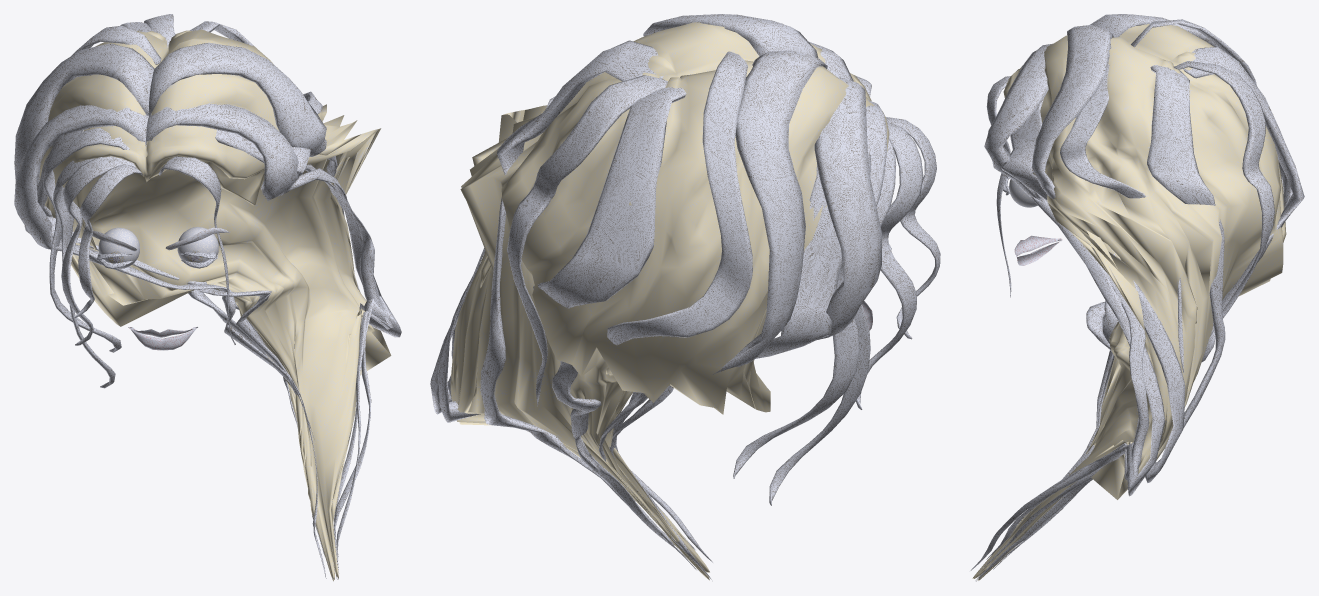
The model's file is eyes_hair.dae.
3 renders of one model, left to right at view 1: azimuth 30°, elevation 25°; view 2: azimuth 150°, elevation 25°; view 3: azimuth 270°, elevation 25°, orthographic. The views are drawn at different scales.
Parts seen in each view (by area): view 1: instance_0, instance_0_004, instance_0_011, instance_0_003, instance_0_005, instance_0_002, instance_0_001, instance_0_016, instance_0_013, instance_0_012, instance_0_015, instance_0_014 (+6 smaller); view 2: instance_0, instance_0_006, instance_0_005, instance_0_010, instance_0_003, instance_0_007, instance_0_008, instance_0_001, instance_0_016, instance_0_011, instance_0_013, instance_0_015 (+3 smaller); view 3: instance_0, instance_0_011, instance_0_004, instance_0_007, instance_0_002, instance_0_008, instance_0_006, instance_0_009, instance_0_010, instance_0_005, instance_0_001, instance_0_014 (+2 smaller).
Part boxes in pixels (box(x1,y1,x2,y2)): instance_0: box(39, 29, 391, 581); instance_0_004: box(146, 103, 401, 549); instance_0_011: box(148, 43, 359, 559); instance_0_003: box(14, 105, 324, 555); instance_0_005: box(14, 43, 285, 369); instance_0_002: box(215, 129, 393, 571); instance_0_001: box(24, 130, 326, 578); instance_0_016: box(43, 128, 129, 352); instance_0_013: box(61, 158, 142, 345); instance_0_012: box(74, 164, 142, 317); instance_0_015: box(53, 156, 135, 388); instance_0_014: box(158, 156, 235, 344); instance_0: box(450, 22, 889, 580); instance_0_006: box(533, 87, 686, 556); instance_0_005: box(598, 50, 827, 569); instance_0_010: box(607, 51, 752, 345); instance_0_003: box(609, 77, 881, 564); instance_0_007: box(480, 40, 677, 547); instance_0_008: box(507, 75, 667, 406); instance_0_001: box(613, 152, 870, 580); instance_0_016: box(733, 100, 886, 478); instance_0_011: box(437, 14, 818, 501); instance_0_013: box(855, 121, 923, 409); instance_0_015: box(769, 139, 896, 505); instance_0: box(972, 24, 1286, 580); instance_0_011: box(983, 25, 1185, 567); instance_0_004: box(984, 43, 1165, 559); instance_0_007: box(975, 65, 1225, 580); instance_0_002: box(969, 97, 1149, 571); instance_0_008: box(1174, 61, 1274, 335); instance_0_006: box(976, 47, 1304, 581); instance_0_009: box(1060, 64, 1183, 372); instance_0_010: box(1131, 19, 1292, 207); instance_0_005: box(993, 14, 1216, 569); instance_0_001: box(1062, 302, 1114, 479); instance_0_014: box(986, 76, 1011, 297).
Bounding box in the file's own units: 0.3177 × 0.2534 × 0.4229.
